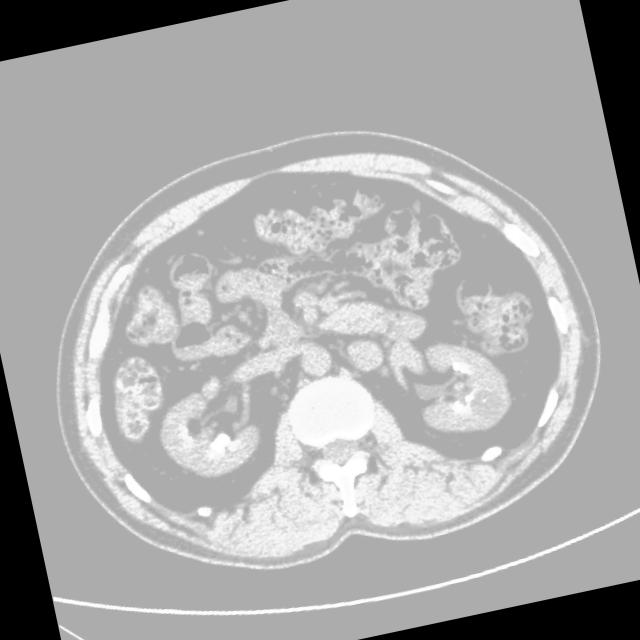STONE: (152, 218, 559, 505)
